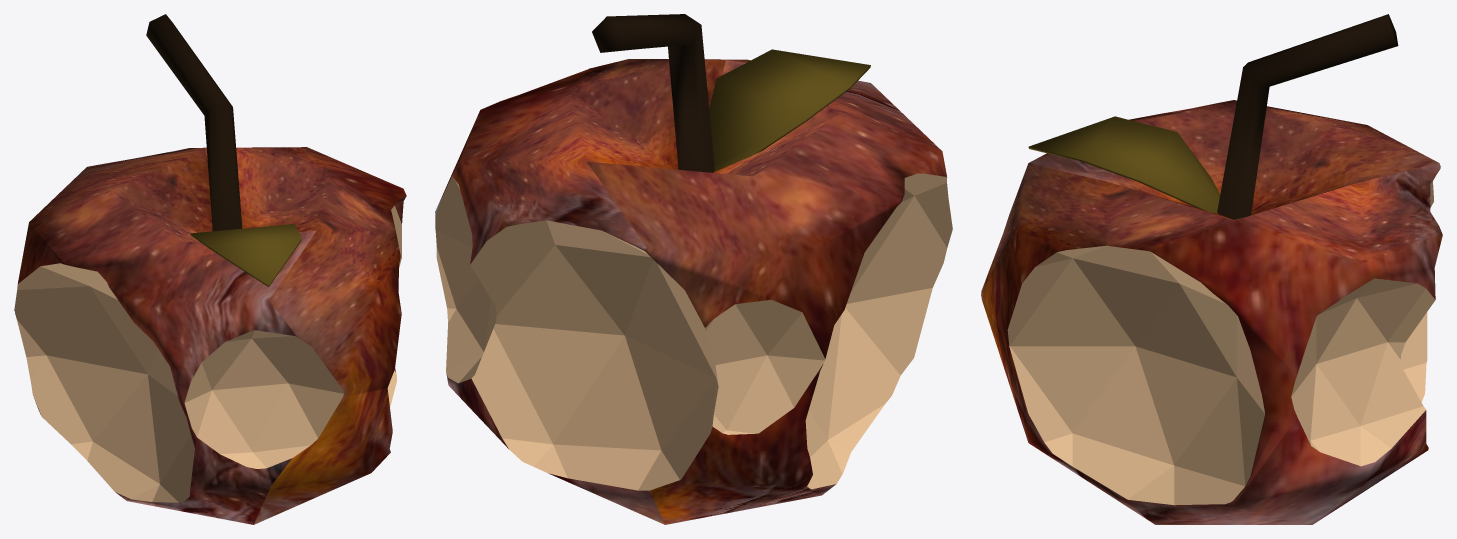
File: rotten apple.fbx
3 views of the same model, side by side, from view 1: azimuth 30°, elevation 25°; view 2: azimuth 150°, elevation 25°; view 3: azimuth 270°, elevation 25° (orthographic). The views are drawn at different scales.
Visible parts, largest first — view 1: Icosphere; view 2: Icosphere; view 3: Icosphere.
Part boxes in pixels (box(x1,y1,x2,y2)): Icosphere: box(14, 14, 406, 524); Icosphere: box(435, 14, 952, 524); Icosphere: box(981, 14, 1442, 524).
Bounding box in the file's own units: 180 × 202 × 182.
Materials: 4 (1 with a texture image).
